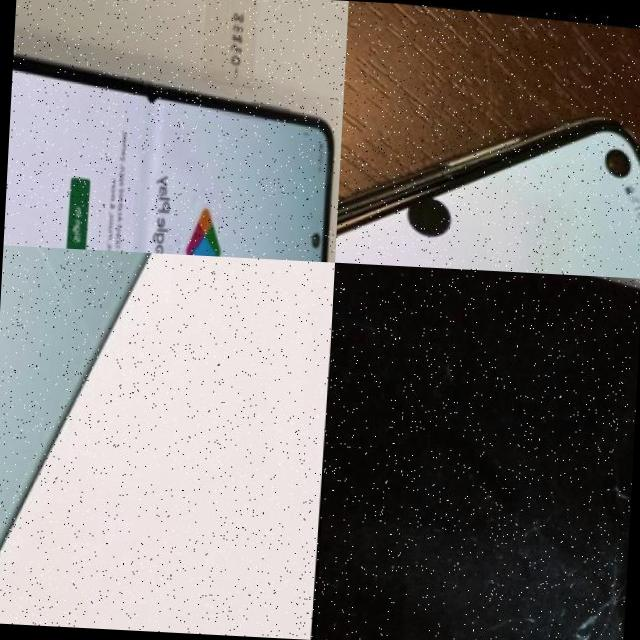dead pixel: (369, 178, 494, 258), (126, 56, 184, 138)
screen crack: (315, 342, 638, 640)
